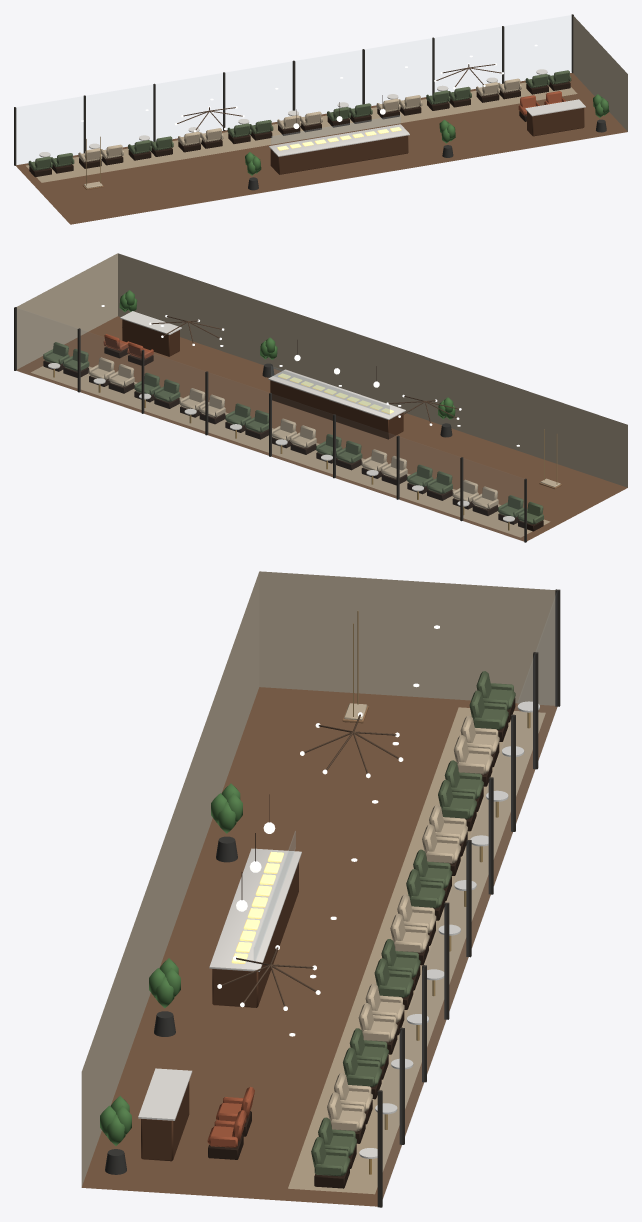
Rendered from akane-lounge.glb.
The picture shows the model from 3 angles, top to bottom: view 1: azimuth 30°, elevation 25°; view 2: azimuth 150°, elevation 25°; view 3: azimuth 270°, elevation 25°; orthographic projection. The views are drawn at different scales.
Visible parts, largest first — view 1: Space_ClubWood, Space_Rug, Space_Walnut, Space_DarkWood, Space_ClubWall, Space_FabricMoss, Space_FabricSand, Space_Marble, Space_Mullion, Space_GlassPartition, Space_Leaf, Space_Bark (+3 smaller); view 2: Space_ClubWall, Space_ClubWood, Space_Rug, Space_FabricMoss, Space_FabricSand, Space_Walnut, Space_DarkWood, Space_Marble, Space_Mullion, Space_GlassPartition, Space_Leaf, Space_Bark (+2 smaller); view 3: Space_ClubWood, Space_ClubWall, Space_Rug, Space_FabricMoss, Space_FabricSand, Space_Marble, Space_Mullion, Space_Walnut, Space_DarkWood, Space_Leaf, Space_FabricRust, Space_Food (+2 smaller).
Boxes of the visible parts, bbox=[...] form: Space_ClubWood: bbox=[16, 73, 627, 224]; Space_Rug: bbox=[26, 82, 577, 182]; Space_Walnut: bbox=[270, 108, 584, 174]; Space_DarkWood: bbox=[29, 81, 570, 177]; Space_ClubWall: bbox=[573, 16, 627, 131]; Space_FabricMoss: bbox=[28, 70, 571, 170]; Space_FabricSand: bbox=[78, 78, 521, 188]; Space_Marble: bbox=[39, 69, 585, 157]; Space_Mullion: bbox=[14, 14, 573, 165]; Space_GlassPartition: bbox=[271, 115, 400, 144]; Space_Leaf: bbox=[245, 94, 609, 175]; Space_Bark: bbox=[177, 64, 501, 129]; Space_ClubWall: bbox=[17, 253, 627, 487]; Space_ClubWood: bbox=[16, 316, 627, 541]; Space_Rug: bbox=[31, 366, 550, 537]; Space_FabricMoss: bbox=[43, 342, 543, 524]; Space_FabricSand: bbox=[88, 357, 560, 509]; Space_Walnut: bbox=[122, 319, 403, 439]; Space_DarkWood: bbox=[43, 340, 543, 531]; Space_Marble: bbox=[48, 311, 514, 521]; Space_Mullion: bbox=[14, 307, 526, 542]; Space_GlassPartition: bbox=[271, 366, 389, 414]; Space_Leaf: bbox=[119, 290, 455, 419]; Space_Bark: bbox=[151, 316, 458, 423]; Space_ClubWood: bbox=[81, 687, 557, 1206]; Space_ClubWall: bbox=[81, 571, 555, 1186]; Space_Rug: bbox=[288, 707, 545, 1194]; Space_FabricMoss: bbox=[311, 671, 515, 1176]; Space_FabricSand: bbox=[327, 703, 499, 1131]; Space_Marble: bbox=[138, 701, 539, 1158]; Space_Mullion: bbox=[377, 589, 560, 1207]; Space_Walnut: bbox=[141, 862, 298, 1161]; Space_DarkWood: bbox=[208, 698, 515, 1188]; Space_Leaf: bbox=[100, 783, 242, 1145]; Space_FabricRust: bbox=[207, 1087, 254, 1147]; Space_Food: bbox=[231, 851, 283, 963].
Bounding box in the file's own units: 26.52 × 2.75 × 10.31.
